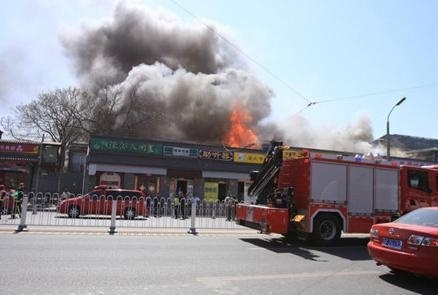fire: (224, 107, 259, 149)
